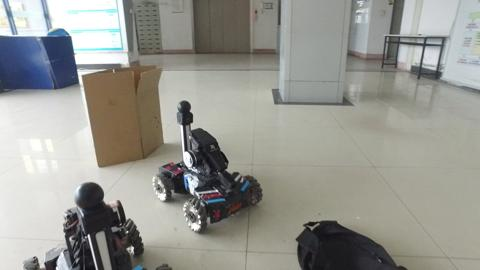box: (83, 65, 165, 166)
chariot: (160, 99, 263, 231)
